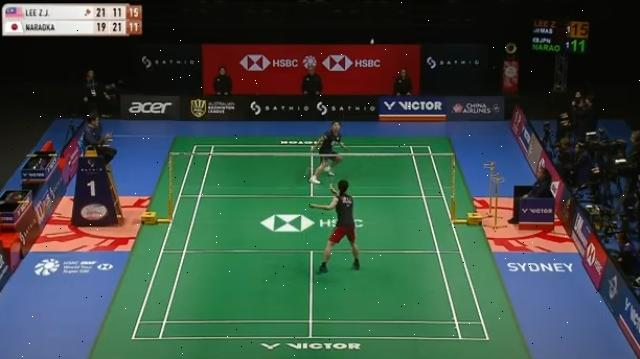Shuttlecock: (368, 36, 376, 46)
